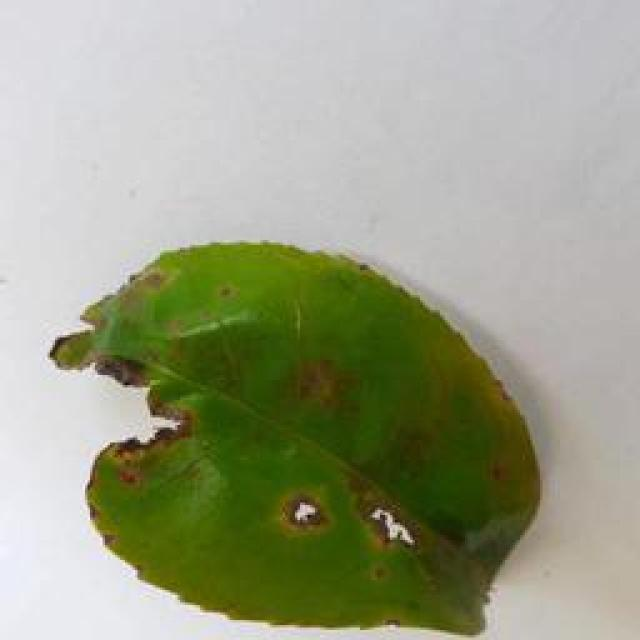Helopeltis: (45, 227, 548, 640)
